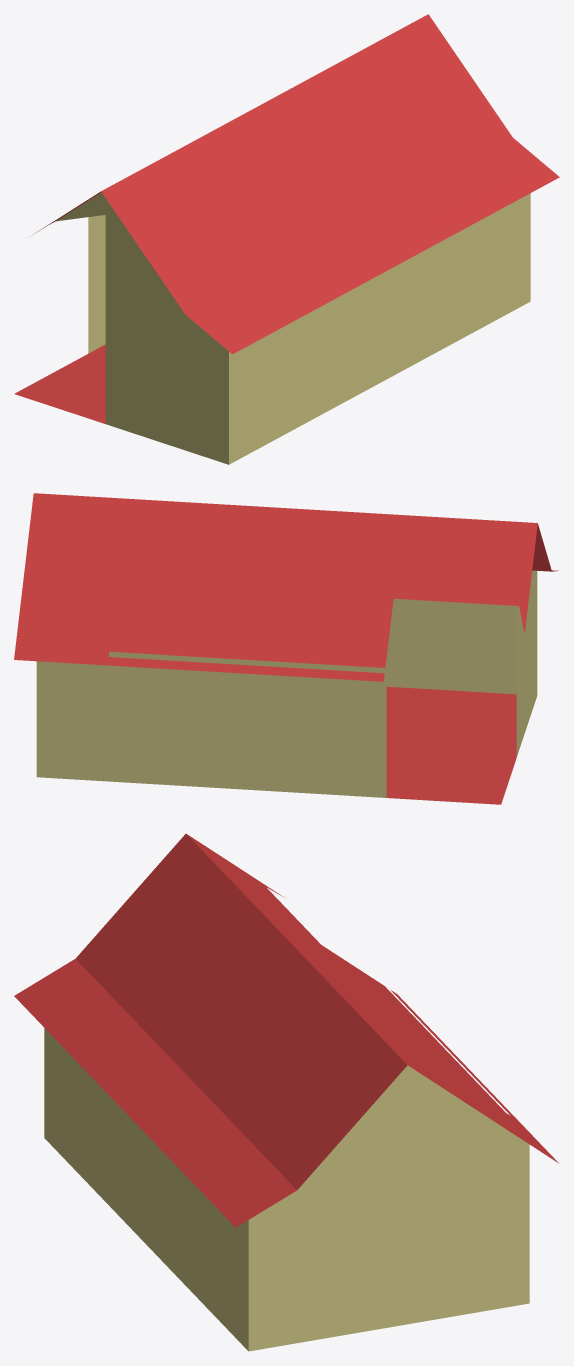
The picture shows the model from 3 angles, top to bottom: view 1: azimuth 30°, elevation 25°; view 2: azimuth 150°, elevation 25°; view 3: azimuth 270°, elevation 25°; orthographic projection. The views are drawn at different scales.
Size of the model in its own units: 28.28 by 23.43 by 12.77.
